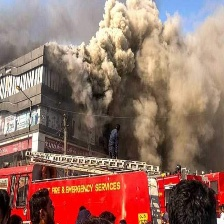smoke: (2, 1, 224, 163)
